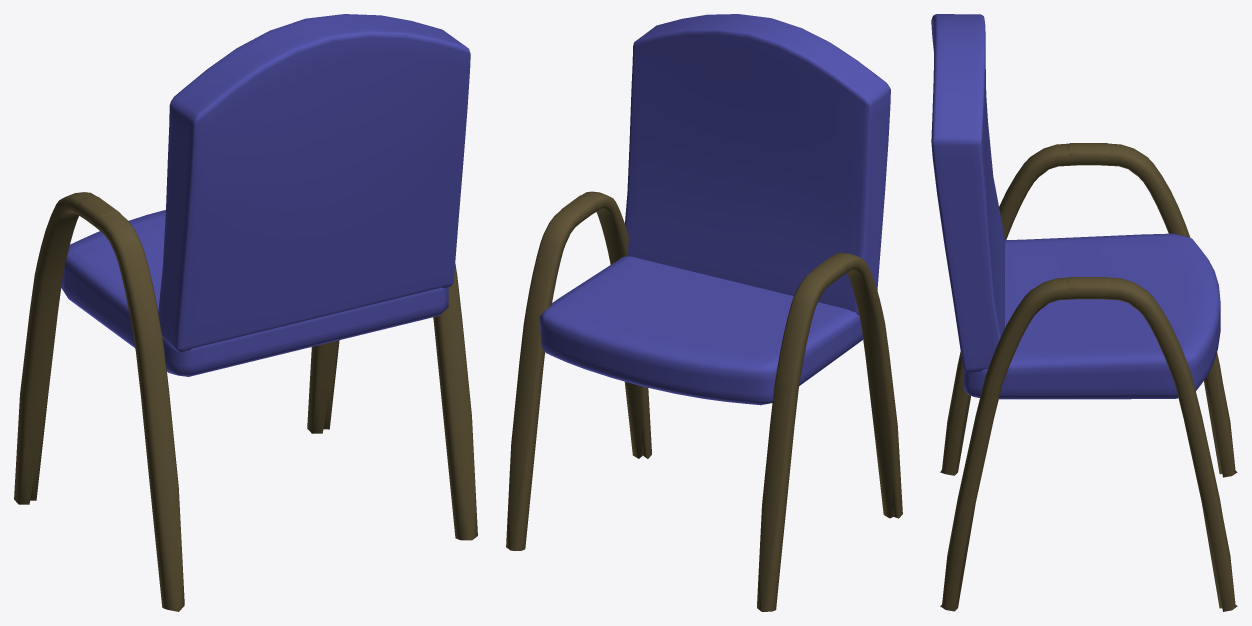
The model's file is Chair.fbx.
The picture shows the model from 3 angles, left to right: view 1: azimuth 30°, elevation 25°; view 2: azimuth 150°, elevation 25°; view 3: azimuth 270°, elevation 25°; orthographic projection. The views are drawn at different scales.
Parts seen in each view (by area): view 1: pCube37, pCube41, pCube36, pCube40; view 2: pCube37, pCube36, pCube41, pCube40; view 3: pCube36, pCube37, pCube40, pCube41.
Part boxes in pixels (box(x1,y1,x2,y2)): pCube37: box(158, 14, 470, 352); pCube41: box(14, 192, 184, 611); pCube36: box(61, 210, 448, 376); pCube40: box(307, 264, 477, 540); pCube37: box(625, 14, 890, 314); pCube36: box(539, 256, 862, 405); pCube41: box(757, 252, 902, 611); pCube40: box(506, 191, 651, 550); pCube36: box(964, 233, 1220, 399); pCube37: box(931, 14, 1005, 372); pCube40: box(940, 277, 1237, 611); pCube41: box(940, 143, 1237, 477).
Bounding box in the file's own units: 2.98 × 4.88 × 2.67.
